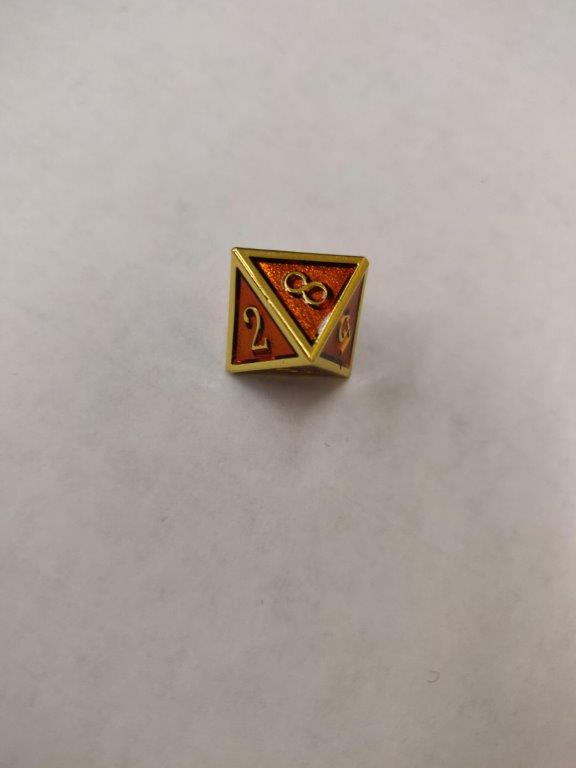d8-8: (223, 243, 368, 383)
